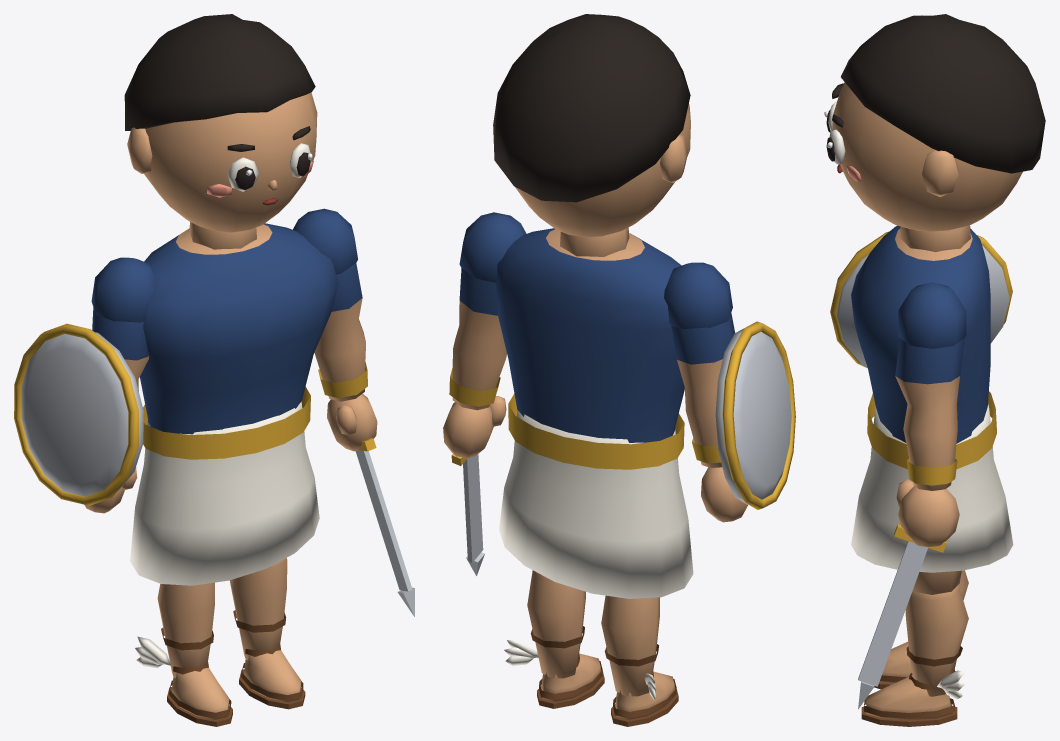
File: perseus.glb
The picture shows the model from 3 angles, left to right: view 1: azimuth 30°, elevation 25°; view 2: azimuth 150°, elevation 25°; view 3: azimuth 270°, elevation 25°; orthographic projection. The views are drawn at different scales.
Visible parts, largest first — view 1: rumpf, huefte, itemL, kopf, haare, armR, knieL, knieR, armL, itemR, augeL; view 2: rumpf, haare, huefte, itemL, armR, armL, kopf, knieR, knieL, itemR; view 3: haare, rumpf, kopf, armR, huefte, knieR, itemL, itemR, knieL, beinR, augeR.
Part boxes in pixels (left/top/right/bottom): rumpf: left=140, top=223, right=338, bottom=459; huefte: left=130, top=401, right=319, bottom=585; itemL: left=14, top=323, right=143, bottom=505; kopf: left=127, top=92, right=317, bottom=249; haare: left=124, top=14, right=315, bottom=130; armR: left=293, top=208, right=377, bottom=451; knieL: left=135, top=582, right=232, bottom=726; knieR: left=229, top=557, right=305, bottom=709; armL: left=84, top=257, right=157, bottom=513; itemR: left=355, top=438, right=414, bottom=616; augeL: left=227, top=157, right=258, bottom=191; rumpf: left=495, top=228, right=684, bottom=469; haare: left=493, top=14, right=690, bottom=202; huefte: left=499, top=410, right=693, bottom=598; itemL: left=715, top=321, right=795, bottom=509; armR: left=443, top=212, right=526, bottom=458; armL: left=664, top=262, right=747, bottom=522; kopf: left=515, top=104, right=690, bottom=256; knieR: left=504, top=570, right=604, bottom=708; knieL: left=601, top=595, right=678, bottom=726; itemR: left=451, top=453, right=484, bottom=575; haare: left=841, top=14, right=1045, bottom=173; rumpf: left=851, top=225, right=996, bottom=469; kopf: left=832, top=82, right=1022, bottom=251; armR: left=895, top=282, right=966, bottom=547; huefte: left=851, top=404, right=1013, bottom=572; knieR: left=861, top=584, right=968, bottom=726; itemL: left=830, top=231, right=1012, bottom=368; itemR: left=858, top=524, right=946, bottom=709; knieL: left=874, top=570, right=968, bottom=689; beinR: left=912, top=570, right=961, bottom=594; augeR: left=826, top=129, right=845, bottom=164.
Bounding box in the file's own units: 1.2 × 2.3 × 0.6822.
